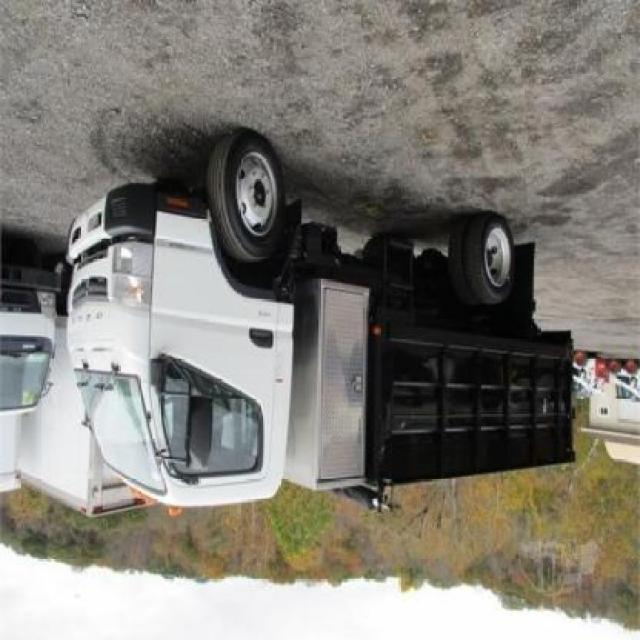truck: (64, 134, 575, 523)
